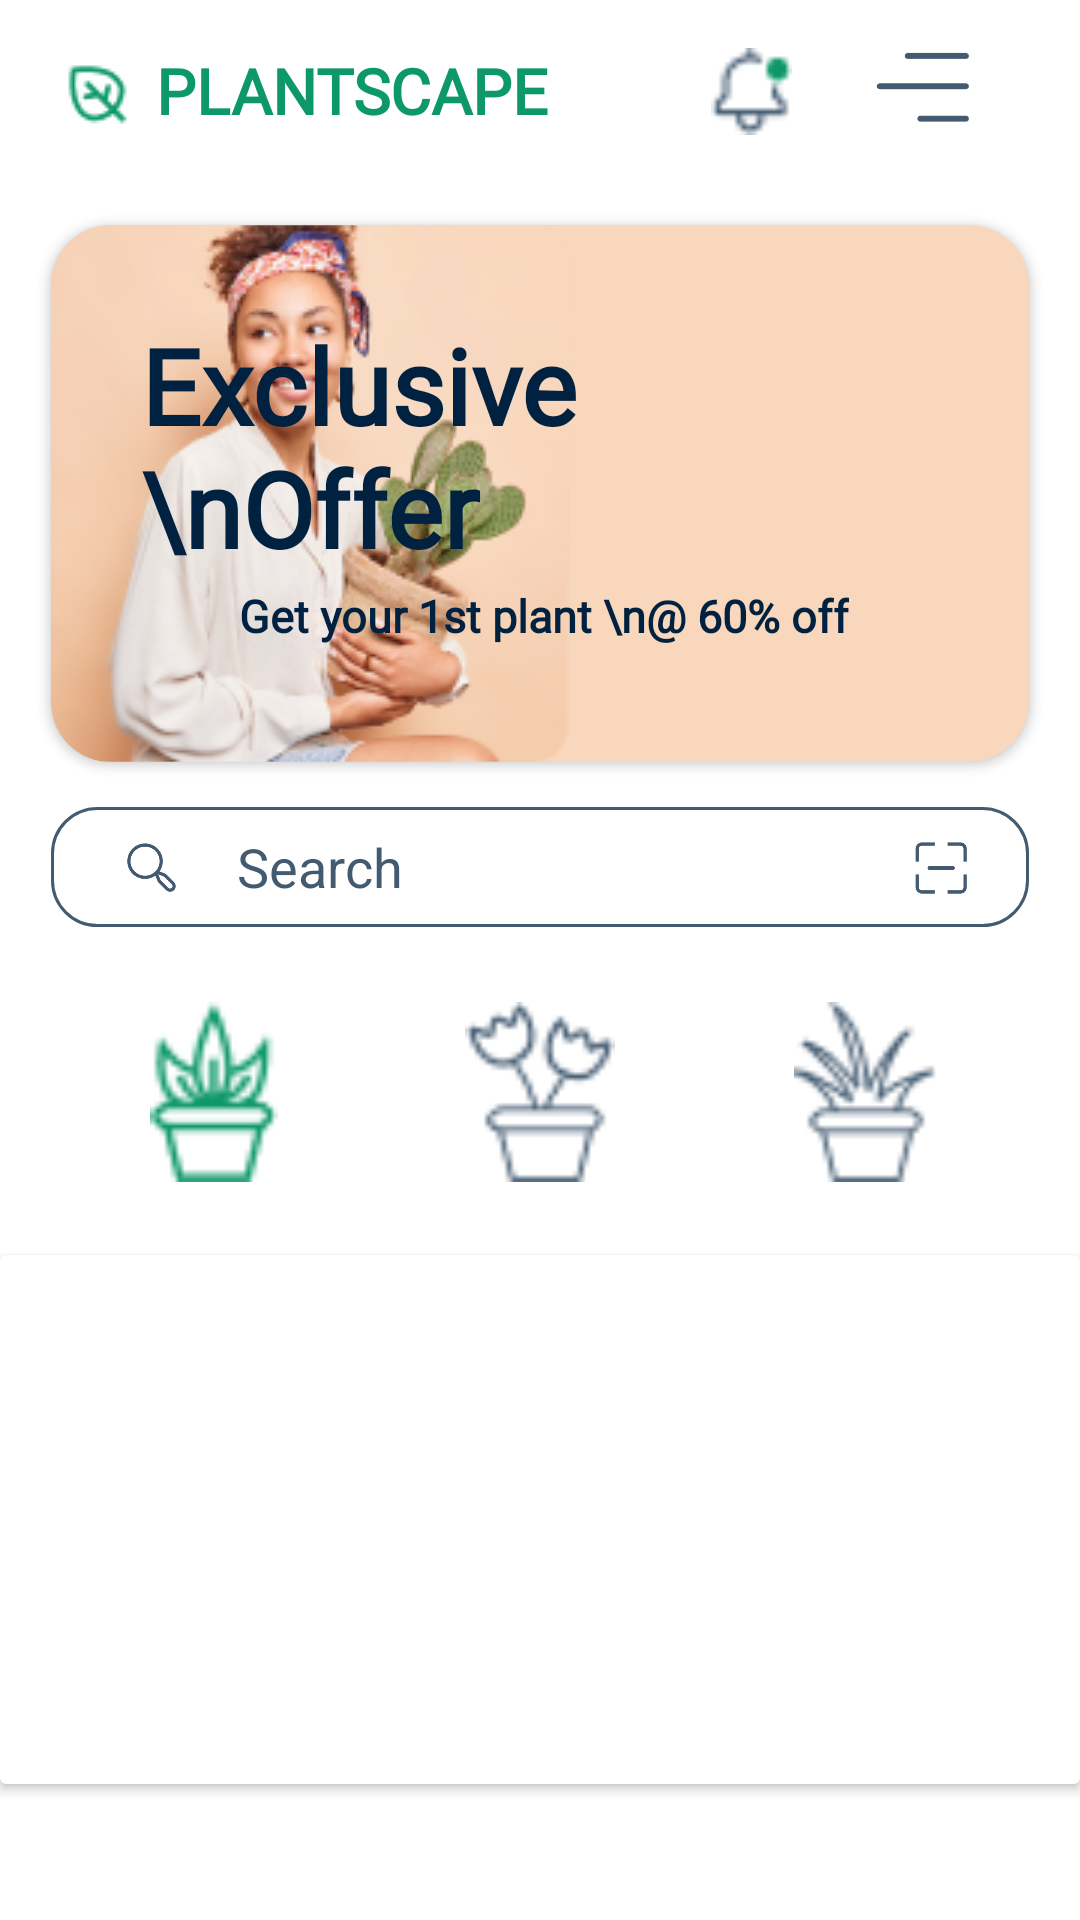

Icons on this 1080w x 1920h Android screen, each with the point to tap as (x=x, y=y):
bell: (x=752, y=91)
menu: (x=922, y=87)
